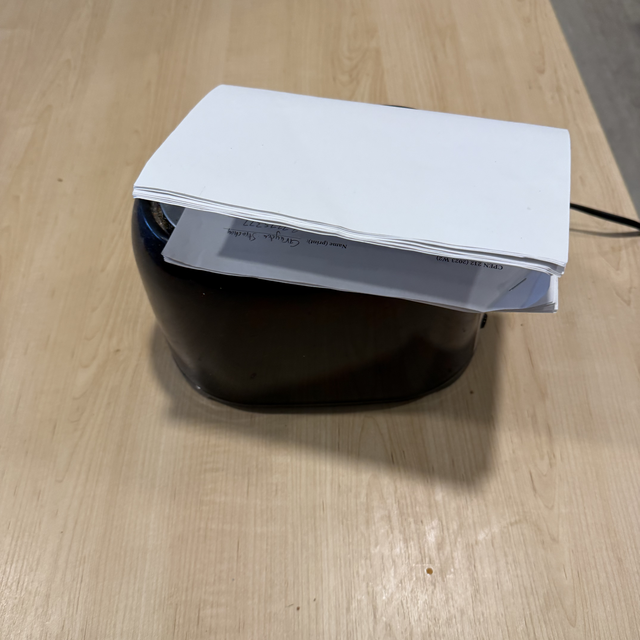Paper: (141, 81, 585, 318)
Toaster: (127, 127, 479, 411)
